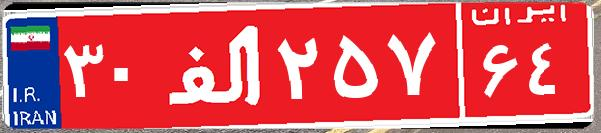0: (110, 28, 158, 105)
2: (273, 28, 330, 110)
3: (57, 26, 110, 107)
4: (525, 38, 570, 115)
5: (330, 28, 385, 110)
6: (475, 38, 525, 113)
7: (385, 28, 445, 110)
الف: (158, 15, 273, 115)
